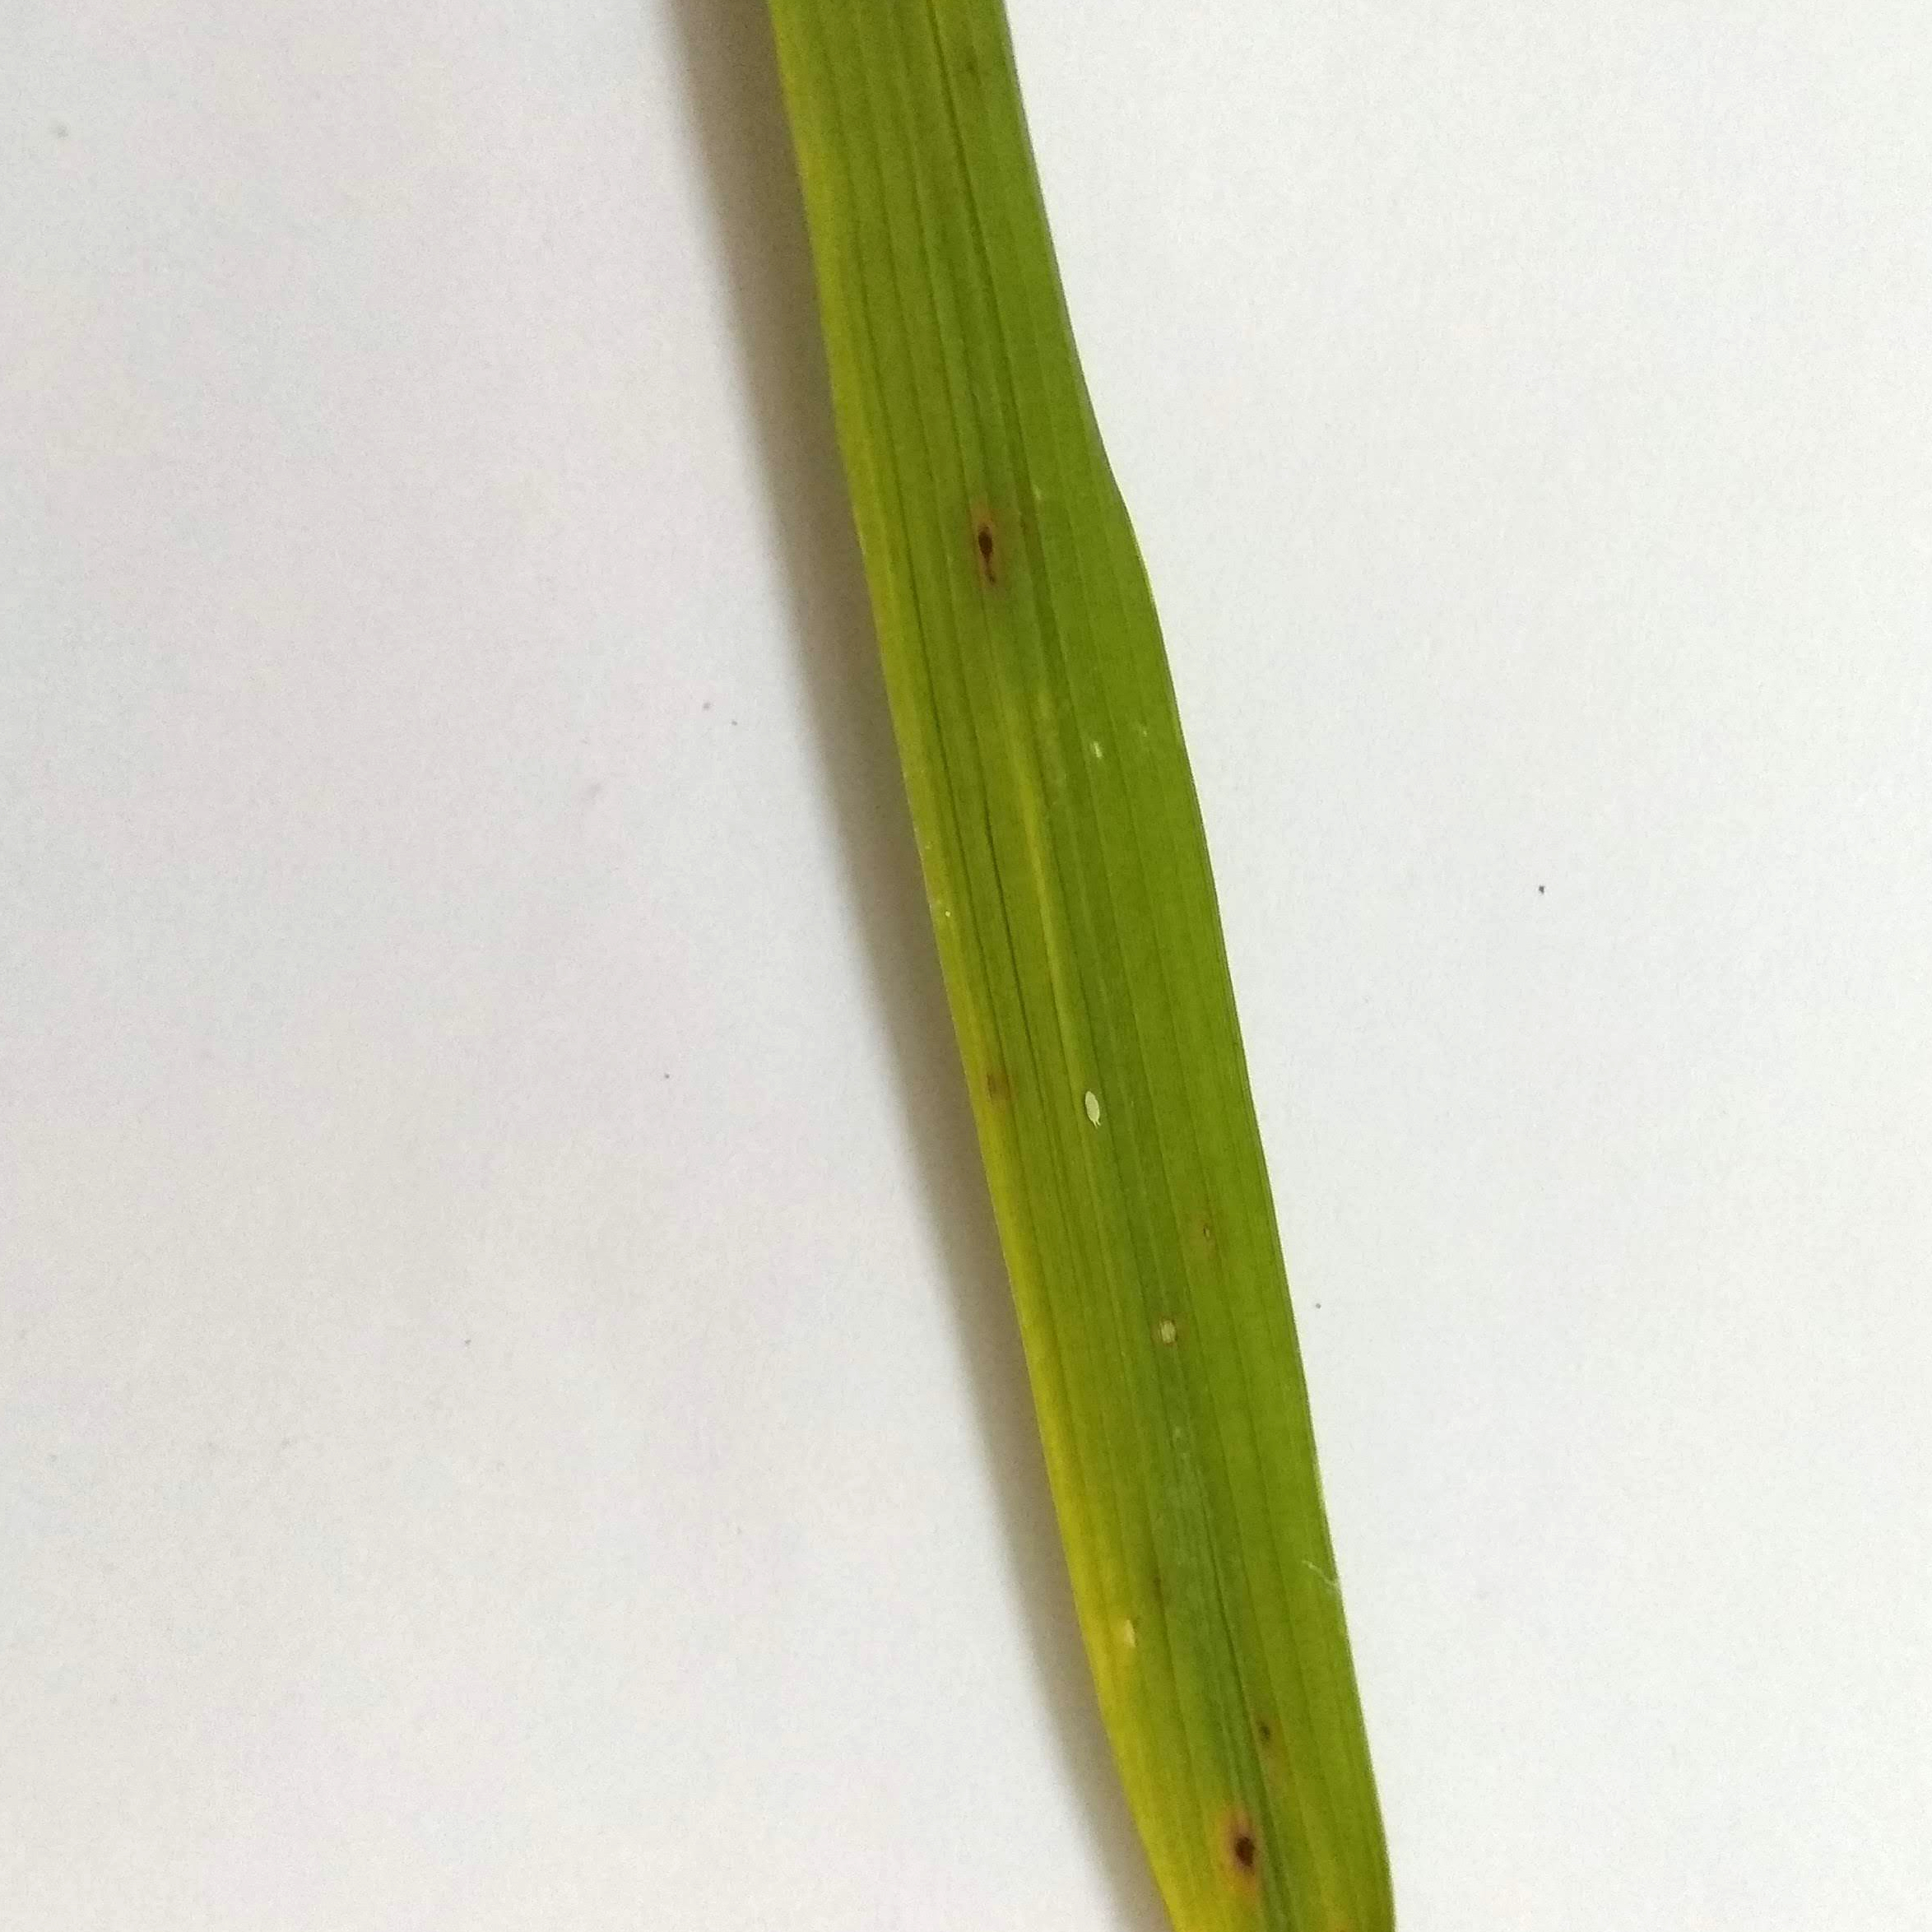brown spot: (947, 501, 1029, 606), (1208, 1809, 1279, 1883), (961, 1057, 1018, 1120), (1251, 1707, 1288, 1753)
